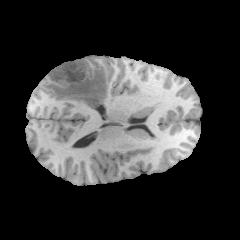glioma: (41, 61, 112, 110)
